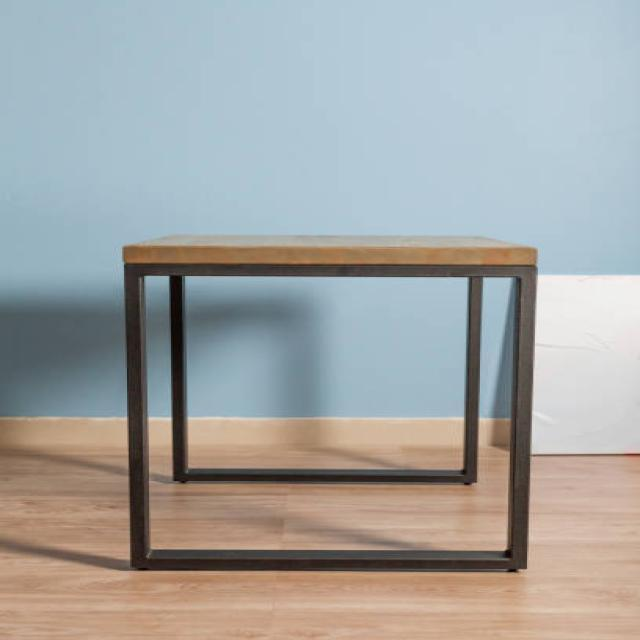table: (121, 233, 538, 572)
